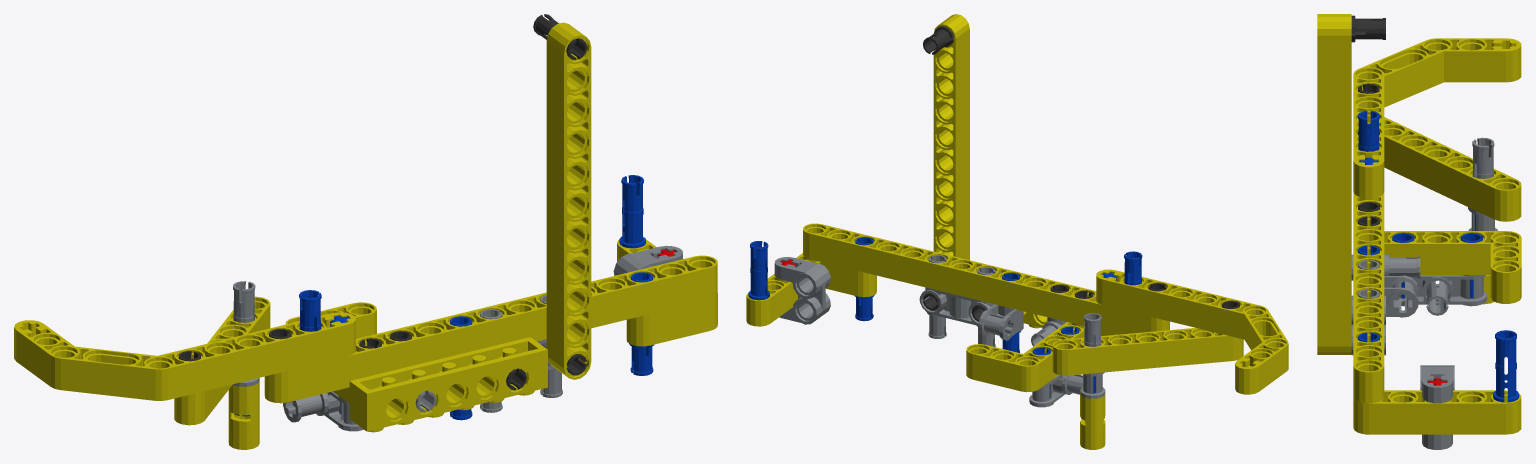
The model's file is Body8.fbx.
3 renders of one model, left to right at view 1: azimuth 30°, elevation 25°; view 2: azimuth 150°, elevation 25°; view 3: azimuth 270°, elevation 25°, orthographic. The views are drawn at different scales.
Visible parts, largest first — view 1: Body8; view 2: Body8; view 3: Body8.
Boxes of the visible parts, x1,y1,x2,y2 form: Body8: (14,14,717,449); Body8: (746,14,1288,449); Body8: (1317,14,1521,449).
Bounding box in the file's own units: 16.72 × 10.35 × 4.76.
